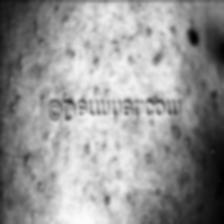Non-Cancerous Skin Condition: (11, 0, 185, 98), (91, 126, 222, 224), (20, 125, 78, 196)
